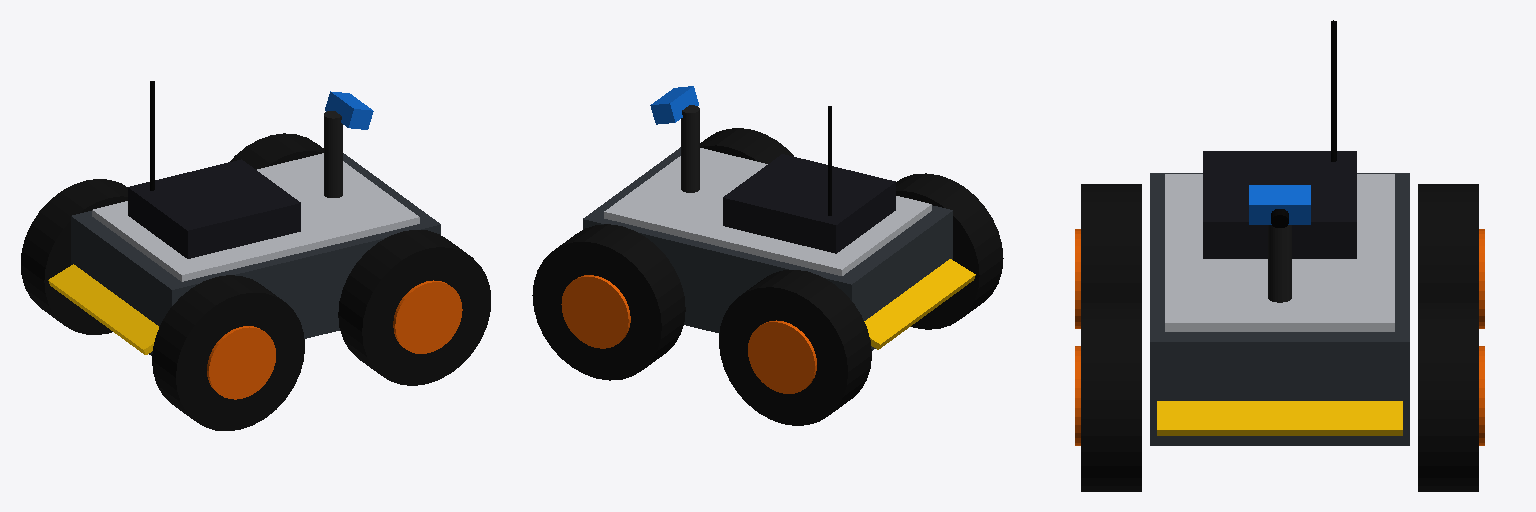
robot.urdf — vision_ugv_rover:
<?xml version="1.0"?>
<!-- =================================================================================== -->
<!-- Vision-Based Outdoor Navigation Unmanned Ground Vehicle (UGV)                     -->
<!-- 4WD Skid-Steer / Differential Drive Outdoor Exploration Rover                       -->
<!-- Compliant with ROS REP-103 (Coordinate Frames) & REP-105 (Mobile Robot)            -->
<!-- =================================================================================== -->
<robot name="vision_ugv_rover">

  <!-- ==================== BASE FOOTPRINT ==================== -->
  <!-- Projection of base_link on the ground plane (Z=0) -->
  <link name="base_footprint"/>

  <joint name="base_footprint_joint" type="fixed">
    <parent link="base_footprint"/>
    <child link="base_link"/>
    <origin xyz="0 0 0.165" rpy="0 0 0"/>
  </joint>

  <!-- ==================== BASE LINK (CHASSIS) ==================== -->
  <link name="base_link">
    <!-- Visual Representation -->
    <visual>
      <origin xyz="0 0 0" rpy="0 0 0"/>
      <geometry>
        <box size="0.52 0.34 0.15"/>
      </geometry>
      <material name="chassis_dark_gray">
        <color rgba="0.22 0.24 0.26 1.0"/>
      </material>
    </visual>
    
    <!-- Top Equipment Deck -->
    <visual>
      <origin xyz="0 0 0.08" rpy="0 0 0"/>
      <geometry>
        <box size="0.46 0.30 0.015"/>
      </geometry>
      <material name="aluminum_plate">
        <color rgba="0.75 0.76 0.78 1.0"/>
      </material>
    </visual>

    <!-- Front Bumper / Skid Plate -->
    <visual>
      <origin xyz="0.27 0 -0.02" rpy="0 0.35 0"/>
      <geometry>
        <box size="0.08 0.32 0.012"/>
      </geometry>
      <material name="safety_yellow">
        <color rgba="0.95 0.75 0.05 1.0"/>
      </material>
    </visual>

    <!-- Rear Bumper -->
    <visual>
      <origin xyz="-0.27 0 -0.02" rpy="0 -0.35 0"/>
      <geometry>
        <box size="0.08 0.32 0.012"/>
      </geometry>
      <material name="safety_yellow">
        <color rgba="0.95 0.75 0.05 1.0"/>
      </material>
    </visual>

    <!-- Collision Geometry -->
    <collision>
      <origin xyz="0 0 0.01" rpy="0 0 0"/>
      <geometry>
        <box size="0.56 0.36 0.17"/>
      </geometry>
    </collision>

    <!-- Inertial Tensor (Chassis Mass: 12.0 kg) -->
    <inertial>
      <origin xyz="0 0 0" rpy="0 0 0"/>
      <mass value="12.0"/>
      <inertia ixx="0.138" ixy="0.0" ixz="0.0"
               iyy="0.293" iyz="0.0"
               izz="0.385"/>
    </inertial>
  </link>

  <!-- ==================== WHEEL MACRO DEFINITIONS ==================== -->
  <!-- Dimensions: Radius 0.125m, Width 0.08m, Wheelbase 0.36m, Track 0.44m -->

  <!-- FRONT LEFT WHEEL -->
  <link name="front_left_wheel_link">
    <visual>
      <origin xyz="0 0 0" rpy="1.570796 0 0"/>
      <geometry>
        <cylinder radius="0.125" length="0.08"/>
      </geometry>
      <material name="tread_black">
        <color rgba="0.1 0.1 0.1 1.0"/>
      </material>
    </visual>
    <visual>
      <origin xyz="0 0.042 0" rpy="1.570796 0 0"/>
      <geometry>
        <cylinder radius="0.065" length="0.01"/>
      </geometry>
      <material name="hub_orange">
        <color rgba="0.9 0.4 0.05 1.0"/>
      </material>
    </visual>
    <collision>
      <origin xyz="0 0 0" rpy="1.570796 0 0"/>
      <geometry>
        <cylinder radius="0.125" length="0.08"/>
      </geometry>
    </collision>
    <inertial>
      <origin xyz="0 0 0" rpy="1.570796 0 0"/>
      <mass value="1.8"/>
      <inertia ixx="0.00798" ixy="0.0" ixz="0.0"
               iyy="0.00798" iyz="0.0"
               izz="0.01406"/>
    </inertial>
  </link>

  <joint name="front_left_wheel_joint" type="continuous">
    <parent link="base_link"/>
    <child link="front_left_wheel_link"/>
    <origin xyz="0.18 0.22 -0.04" rpy="0 0 0"/>
    <axis xyz="0 1 0"/>
  </joint>

  <!-- FRONT RIGHT WHEEL -->
  <link name="front_right_wheel_link">
    <visual>
      <origin xyz="0 0 0" rpy="1.570796 0 0"/>
      <geometry>
        <cylinder radius="0.125" length="0.08"/>
      </geometry>
      <material name="tread_black">
        <color rgba="0.1 0.1 0.1 1.0"/>
      </material>
    </visual>
    <visual>
      <origin xyz="0 -0.042 0" rpy="1.570796 0 0"/>
      <geometry>
        <cylinder radius="0.065" length="0.01"/>
      </geometry>
      <material name="hub_orange">
        <color rgba="0.9 0.4 0.05 1.0"/>
      </material>
    </visual>
    <collision>
      <origin xyz="0 0 0" rpy="1.570796 0 0"/>
      <geometry>
        <cylinder radius="0.125" length="0.08"/>
      </geometry>
    </collision>
    <inertial>
      <origin xyz="0 0 0" rpy="1.570796 0 0"/>
      <mass value="1.8"/>
      <inertia ixx="0.00798" ixy="0.0" ixz="0.0"
               iyy="0.00798" iyz="0.0"
               izz="0.01406"/>
    </inertial>
  </link>

  <joint name="front_right_wheel_joint" type="continuous">
    <parent link="base_link"/>
    <child link="front_right_wheel_link"/>
    <origin xyz="0.18 -0.22 -0.04" rpy="0 0 0"/>
    <axis xyz="0 1 0"/>
  </joint>

  <!-- REAR LEFT WHEEL -->
  <link name="rear_left_wheel_link">
    <visual>
      <origin xyz="0 0 0" rpy="1.570796 0 0"/>
      <geometry>
        <cylinder radius="0.125" length="0.08"/>
      </geometry>
      <material name="tread_black">
        <color rgba="0.1 0.1 0.1 1.0"/>
      </material>
    </visual>
    <visual>
      <origin xyz="0 0.042 0" rpy="1.570796 0 0"/>
      <geometry>
        <cylinder radius="0.065" length="0.01"/>
      </geometry>
      <material name="hub_orange">
        <color rgba="0.9 0.4 0.05 1.0"/>
      </material>
    </visual>
    <collision>
      <origin xyz="0 0 0" rpy="1.570796 0 0"/>
      <geometry>
        <cylinder radius="0.125" length="0.08"/>
      </geometry>
    </collision>
    <inertial>
      <origin xyz="0 0 0" rpy="1.570796 0 0"/>
      <mass value="1.8"/>
      <inertia ixx="0.00798" ixy="0.0" ixz="0.0"
               iyy="0.00798" iyz="0.0"
               izz="0.01406"/>
    </inertial>
  </link>

  <joint name="rear_left_wheel_joint" type="continuous">
    <parent link="base_link"/>
    <child link="rear_left_wheel_link"/>
    <origin xyz="-0.18 0.22 -0.04" rpy="0 0 0"/>
    <axis xyz="0 1 0"/>
  </joint>

  <!-- REAR RIGHT WHEEL -->
  <link name="rear_right_wheel_link">
    <visual>
      <origin xyz="0 0 0" rpy="1.570796 0 0"/>
      <geometry>
        <cylinder radius="0.125" length="0.08"/>
      </geometry>
      <material name="tread_black">
        <color rgba="0.1 0.1 0.1 1.0"/>
      </material>
    </visual>
    <visual>
      <origin xyz="0 -0.042 0" rpy="1.570796 0 0"/>
      <geometry>
        <cylinder radius="0.065" length="0.01"/>
      </geometry>
      <material name="hub_orange">
        <color rgba="0.9 0.4 0.05 1.0"/>
      </material>
    </visual>
    <collision>
      <origin xyz="0 0 0" rpy="1.570796 0 0"/>
      <geometry>
        <cylinder radius="0.125" length="0.08"/>
      </geometry>
    </collision>
    <inertial>
      <origin xyz="0 0 0" rpy="1.570796 0 0"/>
      <mass value="1.8"/>
      <inertia ixx="0.00798" ixy="0.0" ixz="0.0"
               iyy="0.00798" iyz="0.0"
               izz="0.01406"/>
    </inertial>
  </link>

  <joint name="rear_right_wheel_joint" type="continuous">
    <parent link="base_link"/>
    <child link="rear_right_wheel_link"/>
    <origin xyz="-0.18 -0.22 -0.04" rpy="0 0 0"/>
    <axis xyz="0 1 0"/>
  </joint>

  <!-- ==================== SENSOR MAST & VISION CAMERA ==================== -->
  <!-- Mast structure -->
  <link name="sensor_mast_link">
    <visual>
      <origin xyz="0 0 0.08" rpy="0 0 0"/>
      <geometry>
        <cylinder radius="0.016" length="0.16"/>
      </geometry>
      <material name="mast_black">
        <color rgba="0.15 0.15 0.15 1.0"/>
      </material>
    </visual>
    <collision>
      <origin xyz="0 0 0.08" rpy="0 0 0"/>
      <geometry>
        <cylinder radius="0.02" length="0.16"/>
      </geometry>
    </collision>
    <inertial>
      <origin xyz="0 0 0.08" rpy="0 0 0"/>
      <mass value="0.35"/>
      <inertia ixx="0.0008" ixy="0" ixz="0" iyy="0.0008" iyz="0" izz="0.0001"/>
    </inertial>
  </link>

  <joint name="sensor_mast_joint" type="fixed">
    <parent link="base_link"/>
    <child link="sensor_mast_link"/>
    <origin xyz="0.15 0 0.075" rpy="0 0 0"/>
  </joint>

  <!-- Camera Body & Gimbal Platform (18 deg downward tilt) -->
  <link name="camera_link">
    <visual>
      <!-- Camera Enclosure -->
      <origin xyz="0 0 0" rpy="0 0 0"/>
      <geometry>
        <box size="0.04 0.08 0.035"/>
      </geometry>
      <material name="camera_blue">
        <color rgba="0.1 0.45 0.85 1.0"/>
      </material>
    </visual>
    <!-- Camera Lens Barrel -->
    <visual>
      <origin xyz="0.025 0 0" rpy="0 1.570796 0"/>
      <geometry>
        <cylinder radius="0.012" length="0.015"/>
      </geometry>
      <material name="lens_glass">
        <color rgba="0.05 0.05 0.05 1.0"/>
      </material>
    </visual>
    <collision>
      <origin xyz="0.01 0 0" rpy="0 0 0"/>
      <geometry>
        <box size="0.06 0.09 0.04"/>
      </geometry>
    </collision>
    <inertial>
      <origin xyz="0 0 0" rpy="0 0 0"/>
      <mass value="0.25"/>
      <inertia ixx="0.00016" ixy="0" ixz="0" iyy="0.00006" iyz="0" izz="0.00018"/>
    </inertial>
  </link>

  <!-- Camera joint tilted 18 degrees (0.314 rad) forward-down to capture outdoor ground path -->
  <joint name="camera_joint" type="fixed">
    <parent link="sensor_mast_link"/>
    <child link="camera_link"/>
    <origin xyz="0.03 0 0.16" rpy="0 0.314159 0"/>
  </joint>

  <!-- Standard ROS Optical Frame (Z-forward, X-right, Y-down) -->
  <link name="camera_optical_link"/>

  <joint name="camera_optical_joint" type="fixed">
    <parent link="camera_link"/>
    <child link="camera_optical_link"/>
    <origin xyz="0 0 0" rpy="-1.570796 0 -1.570796"/>
  </joint>

  <!-- ==================== COMPUTE & ELECTRONICS ENCLOSURE ==================== -->
  <link name="electronics_box_link">
    <visual>
      <origin xyz="0 0 0" rpy="0 0 0"/>
      <geometry>
        <box size="0.22 0.20 0.06"/>
      </geometry>
      <material name="carbon_fiber">
        <color rgba="0.12 0.12 0.14 1.0"/>
      </material>
    </visual>
    <collision>
      <origin xyz="0 0 0" rpy="0 0 0"/>
      <geometry>
        <box size="0.22 0.20 0.06"/>
      </geometry>
    </collision>
    <inertial>
      <origin xyz="0 0 0" rpy="0 0 0"/>
      <mass value="1.5"/>
      <inertia ixx="0.0054" ixy="0" ixz="0" iyy="0.0065" iyz="0" izz="0.0109"/>
    </inertial>
  </link>

  <joint name="electronics_box_joint" type="fixed">
    <parent link="base_link"/>
    <child link="electronics_box_link"/>
    <origin xyz="-0.08 0 0.11" rpy="0 0 0"/>
  </joint>

  <!-- Antenna -->
  <link name="antenna_link">
    <visual>
      <origin xyz="0 0 0.10" rpy="0 0 0"/>
      <geometry>
        <cylinder radius="0.004" length="0.20"/>
      </geometry>
      <material name="antenna_black">
        <color rgba="0.05 0.05 0.05 1.0"/>
      </material>
    </visual>
  </link>

  <joint name="antenna_joint" type="fixed">
    <parent link="electronics_box_link"/>
    <child link="antenna_link"/>
    <origin xyz="-0.08 0.07 0.03" rpy="0 0 0"/>
  </joint>

  <!-- ==================== GAZEBO SIMULATION PLUGINS ==================== -->
  <gazebo reference="base_link">
    <material>Gazebo/DarkGrey</material>
  </gazebo>
  
  <gazebo reference="front_left_wheel_link">
    <mu1>1.4</mu1>
    <mu2>1.2</mu2>
    <kp>1000000.0</kp>
    <kd>100.0</kd>
    <material>Gazebo/FlatBlack</material>
  </gazebo>

  <gazebo reference="front_right_wheel_link">
    <mu1>1.4</mu1>
    <mu2>1.2</mu2>
    <kp>1000000.0</kp>
    <kd>100.0</kd>
    <material>Gazebo/FlatBlack</material>
  </gazebo>

  <gazebo reference="rear_left_wheel_link">
    <mu1>1.4</mu1>
    <mu2>1.2</mu2>
    <kp>1000000.0</kp>
    <kd>100.0</kd>
    <material>Gazebo/FlatBlack</material>
  </gazebo>

  <gazebo reference="rear_right_wheel_link">
    <mu1>1.4</mu1>
    <mu2>1.2</mu2>
    <kp>1000000.0</kp>
    <kd>100.0</kd>
    <material>Gazebo/FlatBlack</material>
  </gazebo>

  <!-- Gazebo Camera Plugin matching vision_ugv pipeline (640x480, 20-30 FPS) -->
  <gazebo reference="camera_link">
    <material>Gazebo/Blue</material>
    <sensor type="camera" name="ugv_front_camera">
      <update_rate>30.0</update_rate>
      <camera name="front_camera">
        <horizontal_fov>1.085</horizontal_fov> <!-- ~62.2 degrees H-FOV -->
        <image>
          <width>640</width>
          <height>480</height>
          <format>R8G8B8</format>
        </image>
        <clip>
          <near>0.08</near>
          <far>100.0</far>
        </clip>
        <noise>
          <type>gaussian</type>
          <mean>0.0</mean>
          <stddev>0.007</stddev>
        </noise>
      </camera>
      <plugin name="camera_controller" filename="libgazebo_ros_camera.so">
        <alwaysOn>true</alwaysOn>
        <updateRate>0.0</updateRate>
        <cameraName>ugv/front_camera</cameraName>
        <imageTopicName>image_raw</imageTopicName>
        <cameraInfoTopicName>camera_info</cameraInfoTopicName>
        <frameName>camera_optical_link</frameName>
      </plugin>
    </sensor>
  </gazebo>

  <!-- Gazebo Skid-Steer / Differential Drive Plugin -->
  <gazebo>
    <plugin name="skid_steer_drive_controller" filename="libgazebo_ros_skid_steer_drive.so">
      <updateRate>50.0</updateRate>
      <robotNamespace>/ugv</robotNamespace>
      <leftFrontJoint>front_left_wheel_joint</leftFrontJoint>
      <rightFrontJoint>front_right_wheel_joint</rightFrontJoint>
      <leftRearJoint>rear_left_wheel_joint</leftRearJoint>
      <rightRearJoint>rear_right_wheel_joint</rightRearJoint>
      <wheelSeparation>0.44</wheelSeparation>
      <wheelDiameter>0.25</wheelDiameter>
      <robotBaseFrame>base_footprint</robotBaseFrame>
      <torque>25</torque>
      <topicName>cmd_vel</topicName>
      <broadcastTF>true</broadcastTF>
      <covariance_x>0.0001</covariance_x>
      <covariance_y>0.0001</covariance_y>
      <covariance_yaw>0.01</covariance_yaw>
    </plugin>
  </gazebo>

</robot>

--- Render facts (derived) ---
3 views of the same robot in one strip: view 1: azimuth 30°, elevation 25°; view 2: azimuth 150°, elevation 25°; view 3: azimuth 270°, elevation 25° (orthographic).
Robot: vision_ugv_rover — 11 links, 10 joints (4 continuous, 6 fixed); root link base_footprint; default pose: all joints at 0.
Links seen in each view (by area): view 1: base_link, rear_right_wheel_link, front_right_wheel_link, electronics_box_link, rear_left_wheel_link, front_left_wheel_link, sensor_mast_link, camera_link, antenna_link; view 2: base_link, rear_left_wheel_link, front_left_wheel_link, electronics_box_link, rear_right_wheel_link, front_right_wheel_link, sensor_mast_link, camera_link; view 3: base_link, electronics_box_link, front_left_wheel_link, front_right_wheel_link, rear_left_wheel_link, rear_right_wheel_link, camera_link, sensor_mast_link, antenna_link.
Boxes of the visible links, left/top/right/bottom form: base_link: left=48, top=153, right=440, bottom=355; rear_right_wheel_link: left=152, top=275, right=304, bottom=430; front_right_wheel_link: left=338, top=230, right=490, bottom=385; electronics_box_link: left=128, top=159, right=300, bottom=258; rear_left_wheel_link: left=21, top=179, right=127, bottom=334; front_left_wheel_link: left=230, top=133, right=323, bottom=169; sensor_mast_link: left=324, top=111, right=342, bottom=197; camera_link: left=325, top=91, right=373, bottom=129; antenna_link: left=150, top=81, right=154, bottom=190; base_link: left=583, top=147, right=975, bottom=350; rear_left_wheel_link: left=719, top=270, right=871, bottom=425; front_left_wheel_link: left=532, top=224, right=685, bottom=380; electronics_box_link: left=723, top=154, right=895, bottom=253; rear_right_wheel_link: left=896, top=173, right=1003, bottom=329; front_right_wheel_link: left=700, top=128, right=793, bottom=163; sensor_mast_link: left=681, top=105, right=699, bottom=192; camera_link: left=650, top=86, right=698, bottom=124; base_link: left=1150, top=173, right=1409, bottom=445; electronics_box_link: left=1203, top=151, right=1356, bottom=258; front_left_wheel_link: left=1418, top=300, right=1484, bottom=491; front_right_wheel_link: left=1075, top=300, right=1141, bottom=491; rear_left_wheel_link: left=1418, top=184, right=1484, bottom=328; rear_right_wheel_link: left=1075, top=184, right=1141, bottom=328; camera_link: left=1249, top=185, right=1310, bottom=227; sensor_mast_link: left=1268, top=225, right=1291, bottom=302; antenna_link: left=1331, top=20, right=1336, bottom=161.
Size in the robot's own frame: 0.6193 by 0.534 by 0.505 metres.
Geometry: primitives only (box / cylinder / sphere), no mesh files.
